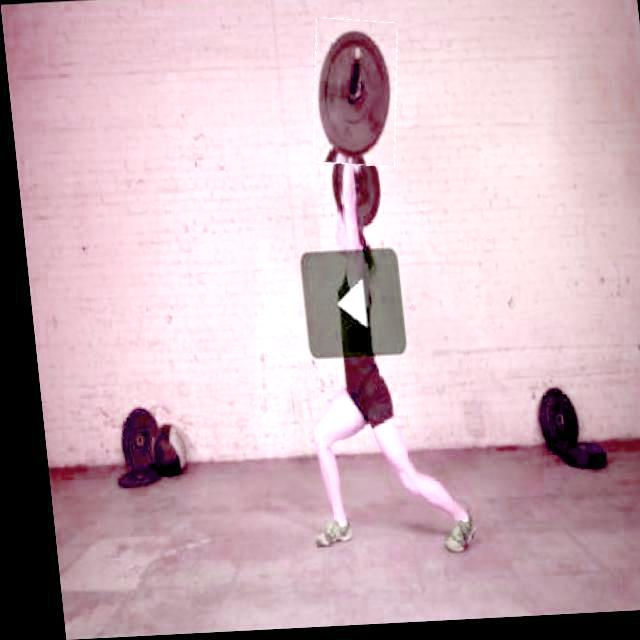barbell: (303, 20, 404, 172)
